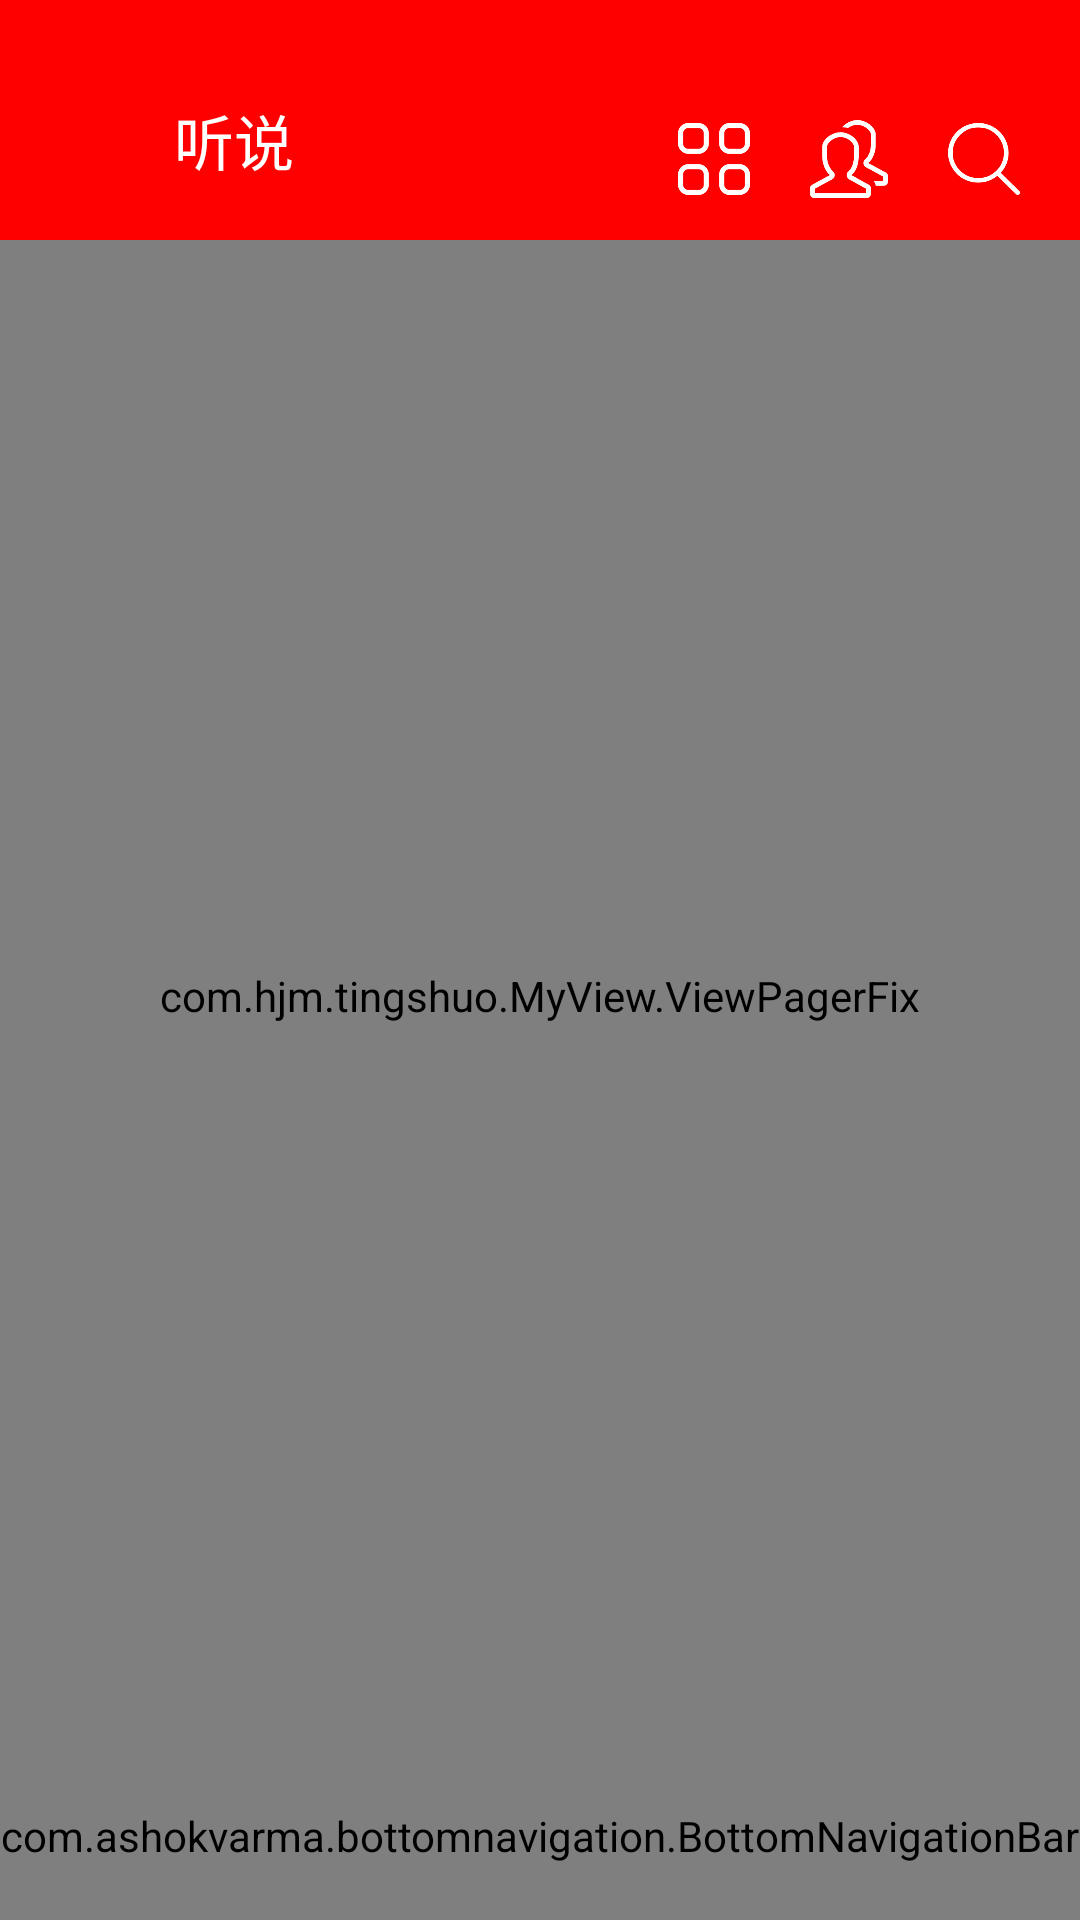

Named icons in this screenshot (1080×1920) and their centers, (x,y):
home classification: (714,159)
home friend: (849,159)
home search: (984,159)
